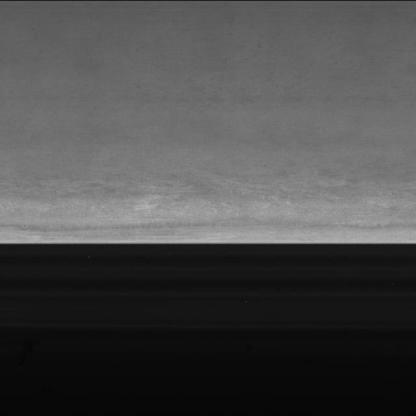silk_spot: (109, 162, 362, 212)
